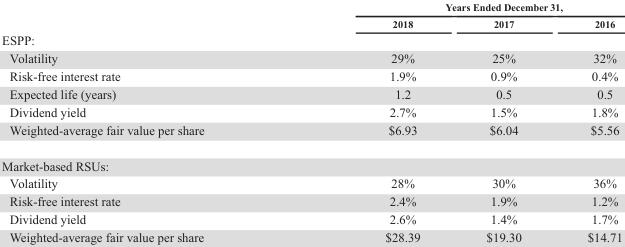table: (1, 1, 621, 243)
table column: (1, 1, 294, 243), (294, 1, 452, 243), (452, 1, 553, 243), (553, 1, 621, 243)
table column header: (1, 1, 621, 30)
table projected row header: (1, 147, 621, 174), (1, 30, 621, 48)
table row: (1, 120, 621, 147), (1, 147, 621, 174), (1, 30, 621, 48), (1, 48, 621, 66), (1, 66, 621, 84), (1, 84, 621, 102), (1, 102, 621, 120), (1, 174, 621, 192), (1, 192, 621, 210), (1, 210, 621, 227), (1, 14, 621, 30), (1, 227, 621, 243), (1, 1, 621, 14)
table spanning cell: (294, 1, 621, 14)
